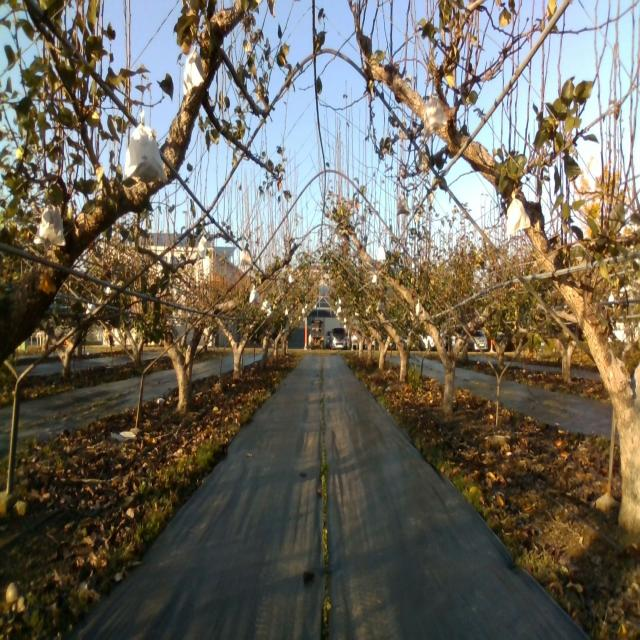pearbags: (123, 110, 167, 187), (33, 204, 66, 248), (506, 192, 532, 241), (182, 45, 204, 95), (424, 92, 446, 136), (396, 194, 410, 215), (240, 247, 252, 266)
